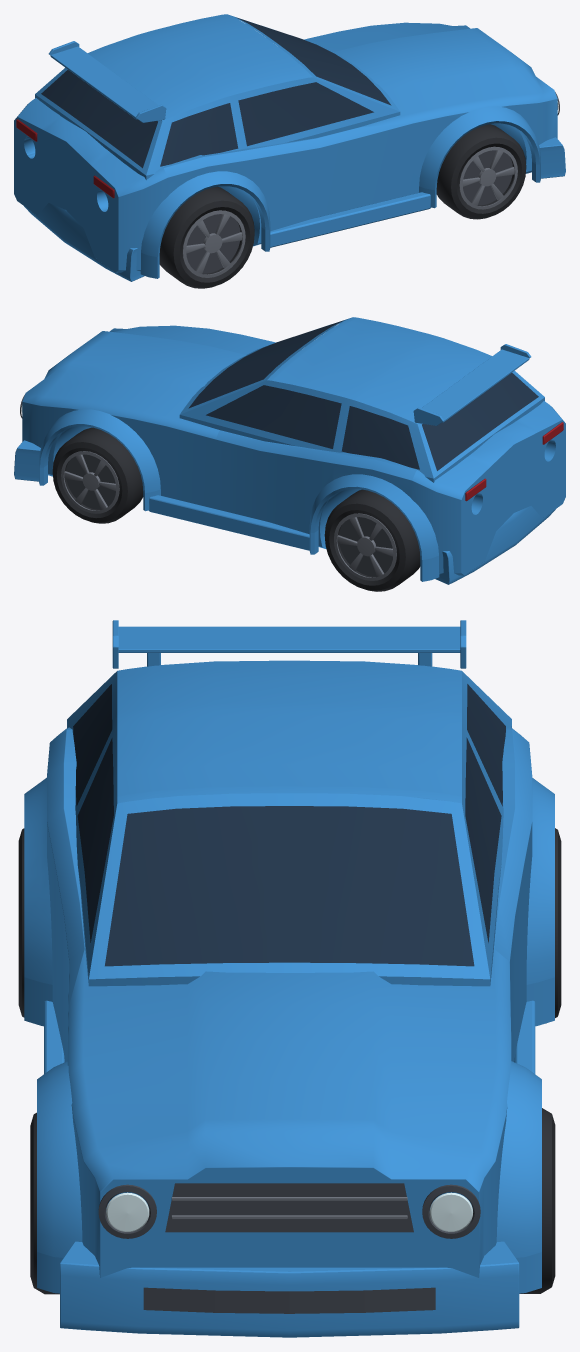
3 renders of one model, top to bottom at view 1: azimuth 30°, elevation 25°; view 2: azimuth 150°, elevation 25°; view 3: azimuth 270°, elevation 25°, orthographic. The views are drawn at different scales.
Parts seen in each view (by area): view 1: game-car-body, wheel-rear-left, wheel-front-left; view 2: game-car-body, wheel-rear-right, wheel-front-right; view 3: game-car-body, wheel-front-right, wheel-rear-left, wheel-rear-right, wheel-front-left.
Part boxes in pixels (bbox=[...]): game-car-body: bbox=[14, 14, 565, 281]; wheel-rear-left: bbox=[159, 186, 254, 288]; wheel-front-left: bbox=[436, 124, 526, 219]; game-car-body: bbox=[14, 317, 565, 584]; wheel-rear-right: bbox=[324, 489, 420, 591]; wheel-front-right: bbox=[52, 427, 143, 523]; game-car-body: bbox=[24, 620, 554, 1337]; wheel-front-right: bbox=[519, 1108, 555, 1293]; wheel-rear-left: bbox=[18, 828, 24, 1017]; wheel-rear-right: bbox=[555, 828, 561, 1017]; wheel-front-left: bbox=[30, 1112, 59, 1294].
Size of the model in its own units: 1.4 by 0.5163 by 0.7247.
